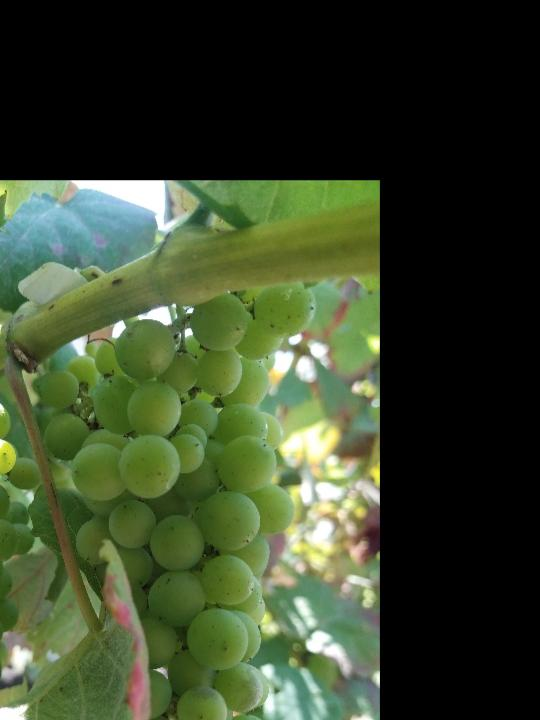grape: (32, 283, 315, 720), (0, 400, 31, 720)
